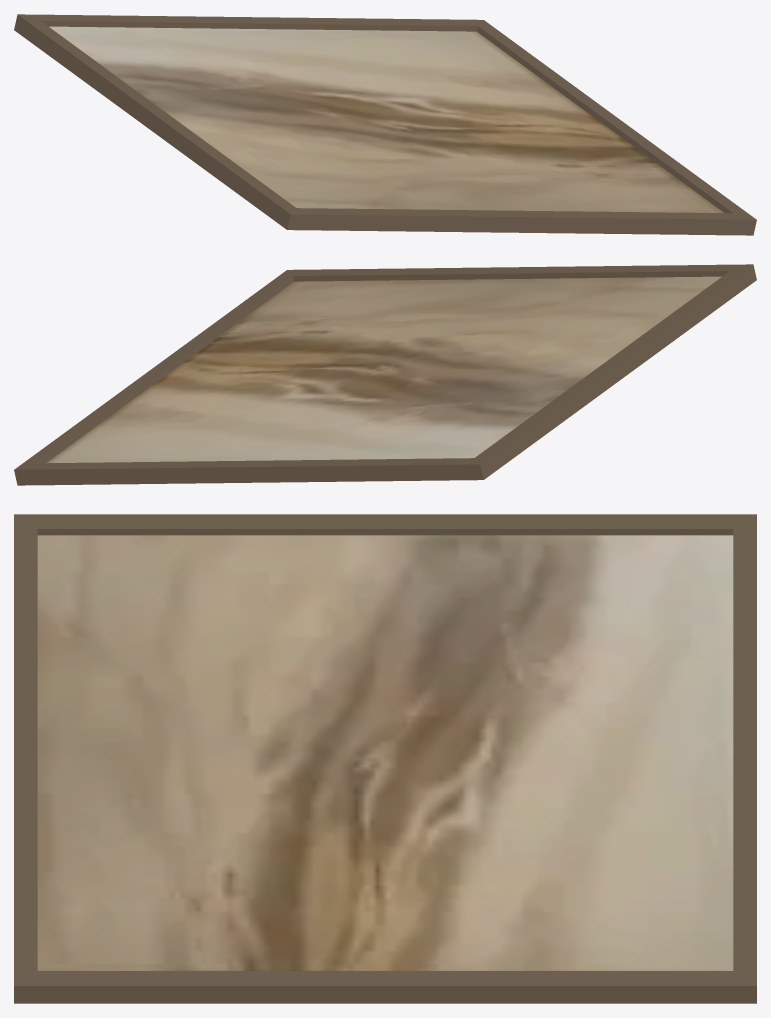
The model's file is component_009_painting_left.glb.
3 renders of one model, top to bottom at view 1: azimuth 30°, elevation 25°; view 2: azimuth 150°, elevation 25°; view 3: azimuth 270°, elevation 25°, orthographic. The views are drawn at different scales.
Parts seen in each view (by area): view 1: 009_painting_left_004_instance_004_photo_000, 009_painting_left_003_instance_003_photo_-01, 009_painting_left_001_instance_001_photo_-01, 009_painting_left_002_instance_002_photo_-01, 009_painting_left_000_instance_000_photo_-01; view 2: 009_painting_left_004_instance_004_photo_000, 009_painting_left_002_instance_002_photo_-01, 009_painting_left_001_instance_001_photo_-01, 009_painting_left_003_instance_003_photo_-01, 009_painting_left_000_instance_000_photo_-01; view 3: 009_painting_left_004_instance_004_photo_000, 009_painting_left_000_instance_000_photo_-01, 009_painting_left_001_instance_001_photo_-01, 009_painting_left_002_instance_002_photo_-01, 009_painting_left_003_instance_003_photo_-01.
Part boxes in pixels (<box>): 009_painting_left_004_instance_004_photo_000: <box>49,26,724,213</box>; 009_painting_left_003_instance_003_photo_-01: <box>297,208,741,235</box>; 009_painting_left_001_instance_001_photo_-01: <box>14,14,305,230</box>; 009_painting_left_002_instance_002_photo_-01: <box>33,14,477,31</box>; 009_painting_left_000_instance_000_photo_-01: <box>469,19,756,235</box>; 009_painting_left_004_instance_004_photo_000: <box>46,276,721,463</box>; 009_painting_left_002_instance_002_photo_-01: <box>29,458,473,485</box>; 009_painting_left_001_instance_001_photo_-01: <box>465,264,756,480</box>; 009_painting_left_003_instance_003_photo_-01: <box>293,264,737,281</box>; 009_painting_left_000_instance_000_photo_-01: <box>14,269,301,485</box>; 009_painting_left_004_instance_004_photo_000: <box>37,535,733,970</box>; 009_painting_left_000_instance_000_photo_-01: <box>14,971,756,1003</box>; 009_painting_left_001_instance_001_photo_-01: <box>14,514,756,535</box>; 009_painting_left_002_instance_002_photo_-01: <box>733,529,756,970</box>; 009_painting_left_003_instance_003_photo_-01: <box>14,529,37,970</box>.
Bounding box in the file's own units: 0.2155 × 0.0588 × 0.217.
Materials: 2 (1 with a texture image).
